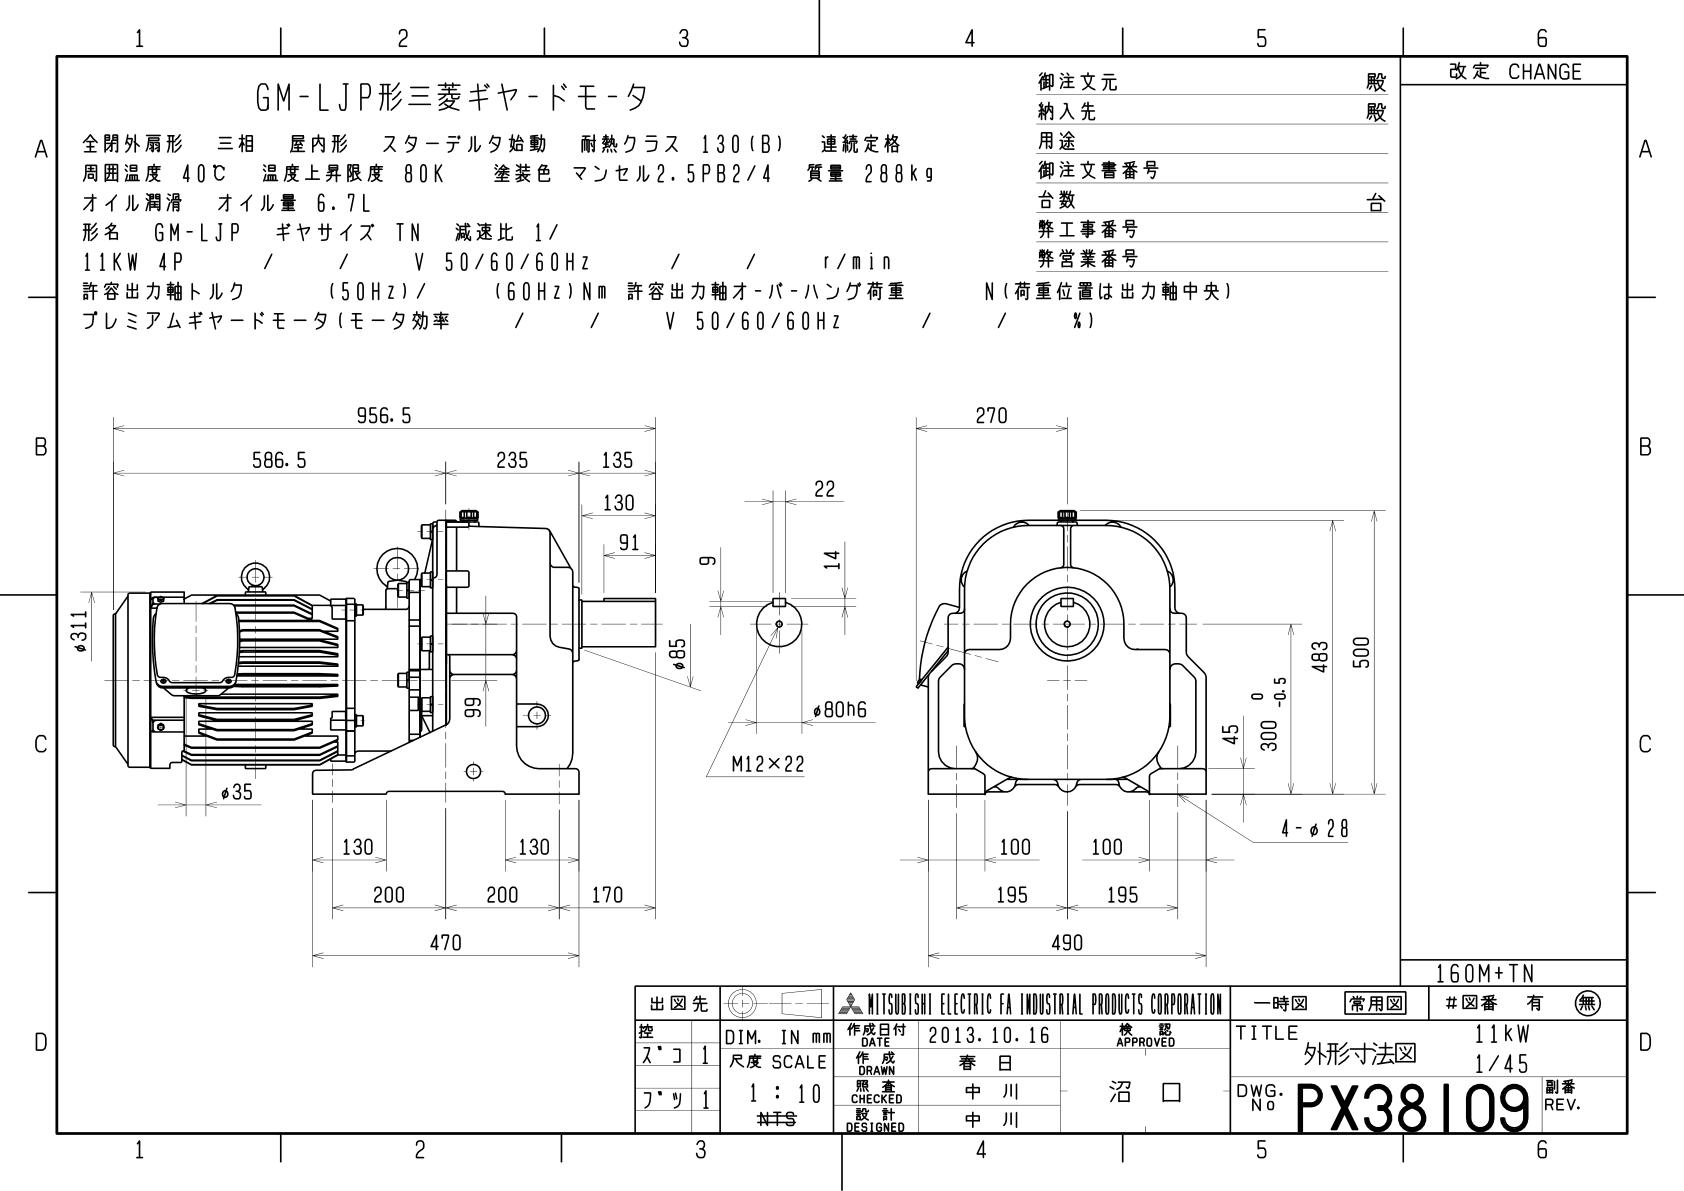GM_LJP_屋内_三相_脚: (63, 354, 1393, 974)
